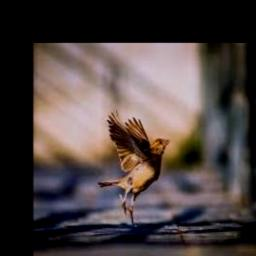Sparrow: (99, 109, 170, 227)
